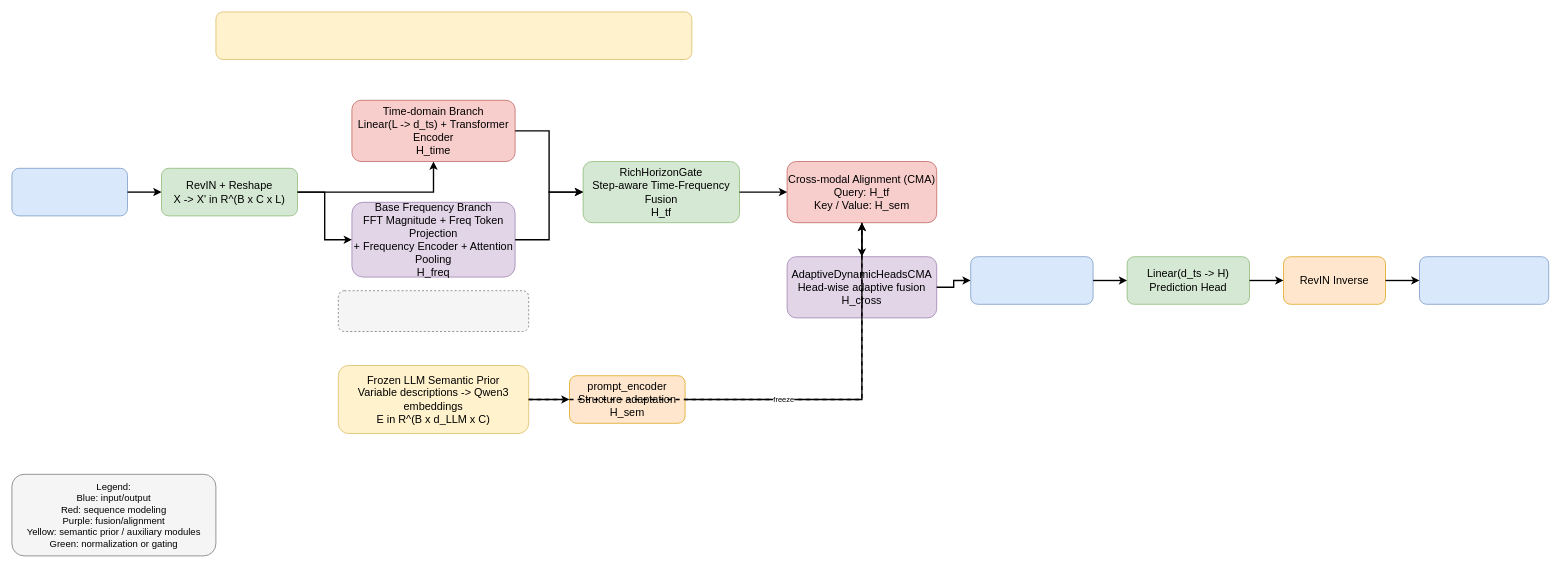
This 1561x568 diagram has some shape labels left out. The shapes that lost their labels are listed below. From the top down, each one's box as (x1, y1, x2, y2) in pixels, then its label:
(215, 11, 692, 60): Chapter 3 Unified Forecasting Framework 基于 Qwen3 语义先验与门控注意力的统一预测骨架
(11, 168, 128, 216): Multivariate Input X in R^(B x L x C)
(970, 256, 1093, 304): Transformer Decoder
(1419, 256, 1549, 304): Forecast Output Y_hat in R^(B x H x C)
(338, 290, 529, 332): Replaceable frequency interface (Chapter 4: WPD, Chapter 5: FreMLP)
